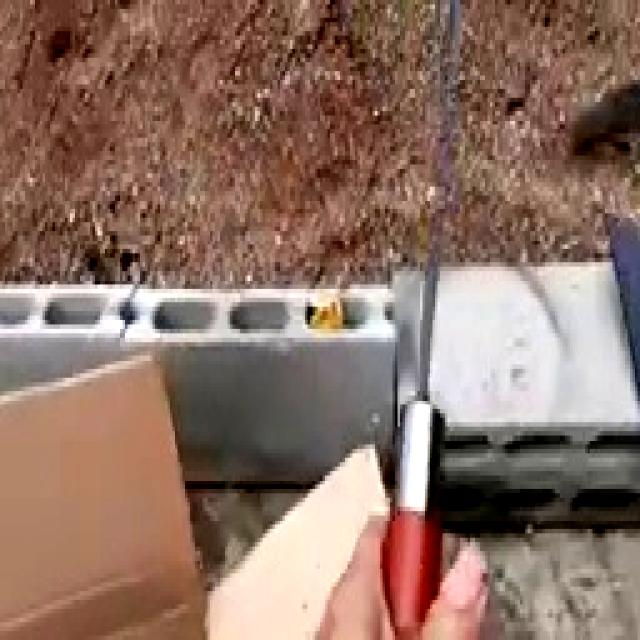eto: (381, 1, 465, 640)
